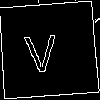V: (23, 25, 59, 74)
